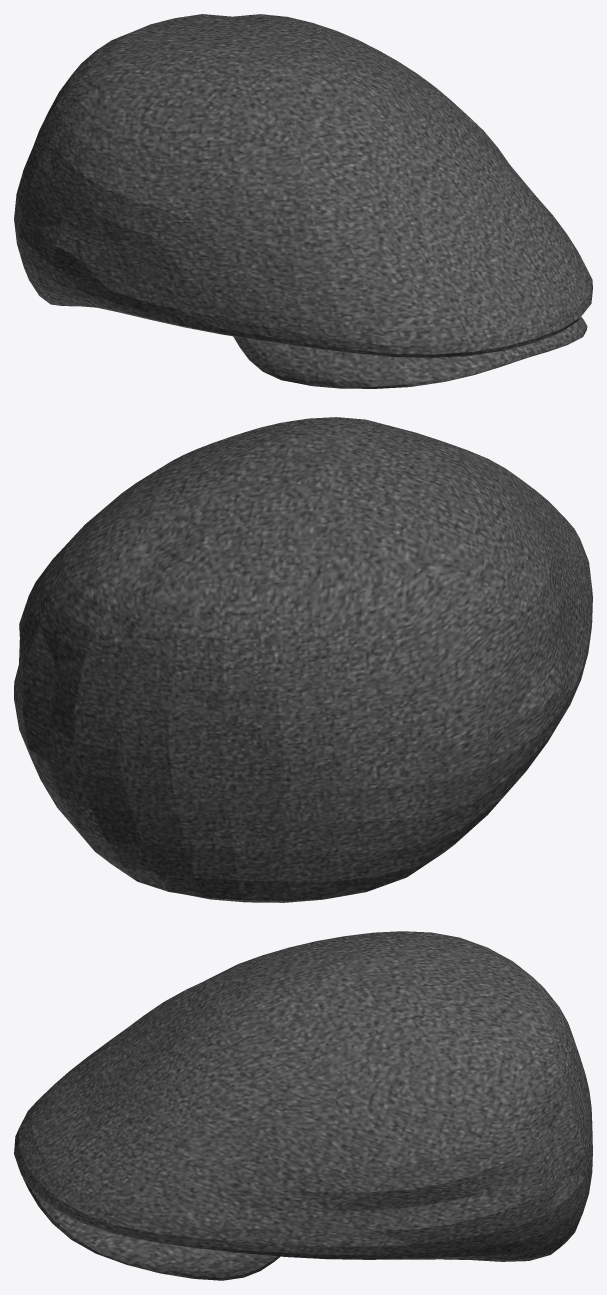
File: mhw_elvs_male_flat_cap1.glb
3 views of the same model, one above another, from view 1: azimuth 30°, elevation 25°; view 2: azimuth 150°, elevation 25°; view 3: azimuth 270°, elevation 25° (orthographic). The views are drawn at different scales.
Parts seen in each view (by area): view 1: mhw_elvs_male_flat_cap1; view 2: mhw_elvs_male_flat_cap1; view 3: mhw_elvs_male_flat_cap1.
Part boxes in pixels (bbox=[...]): mhw_elvs_male_flat_cap1: bbox=[14, 14, 592, 388]; mhw_elvs_male_flat_cap1: bbox=[14, 417, 592, 902]; mhw_elvs_male_flat_cap1: bbox=[14, 931, 592, 1280].
Size of the model in its own units: 0.2089 by 0.1356 by 0.2668.
Materials: 1 (1 with a texture image).
